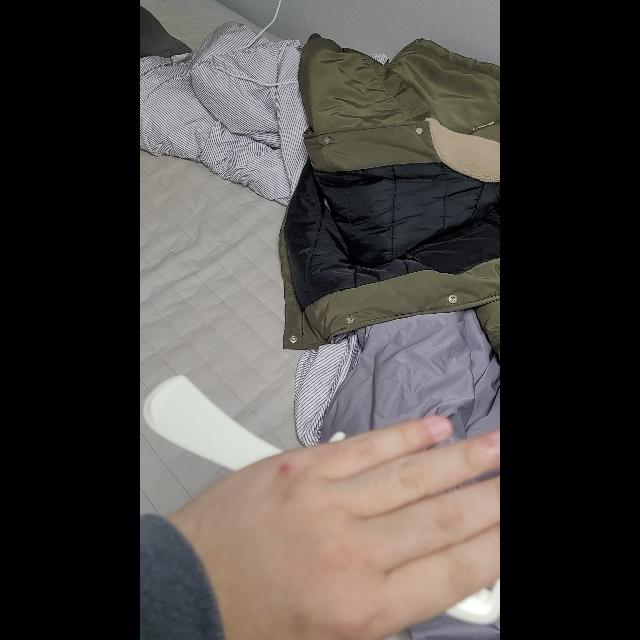COMB: (142, 373, 500, 624)
